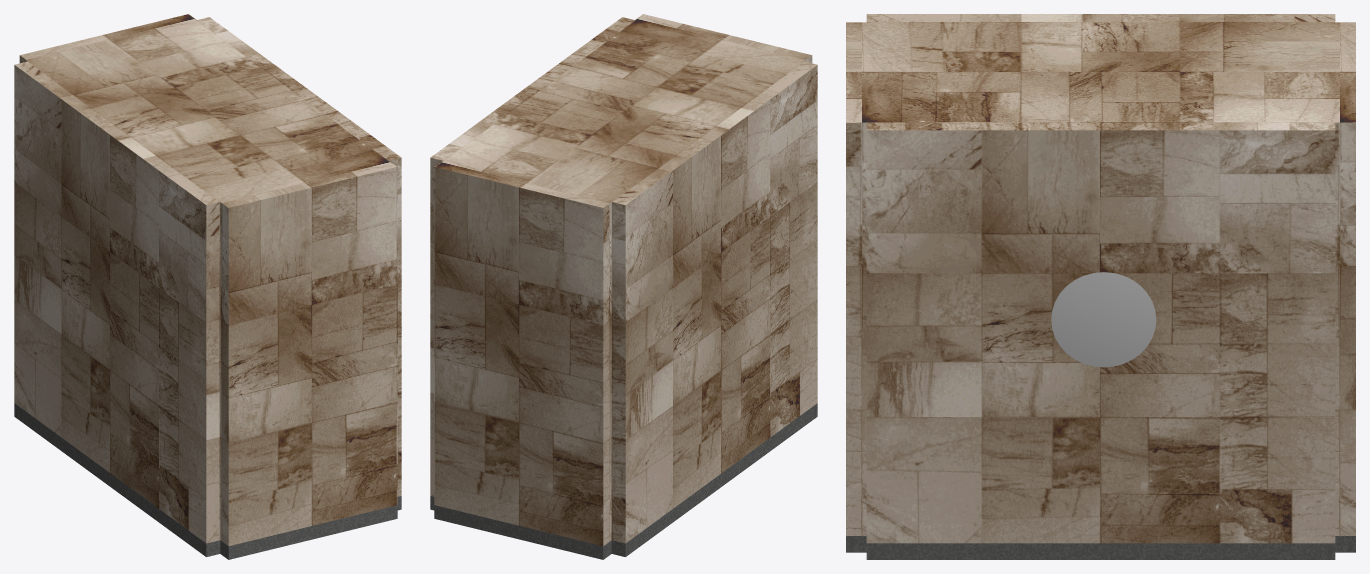
Rendered from Subway04Column01_One.FBX.
The picture shows the model from 3 angles, left to right: view 1: azimuth 30°, elevation 25°; view 2: azimuth 150°, elevation 25°; view 3: azimuth 270°, elevation 25°; orthographic projection. The views are drawn at different scales.
Parts seen in each view (by area): view 1: Subway04Column01; view 2: Subway04Column01; view 3: Subway04Column01, Subway04Column01Decor.
Boxes of the visible parts, <box> form: Subway04Column01: <box>14,14,401,559</box>; Subway04Column01: <box>430,14,817,559</box>; Subway04Column01: <box>846,14,1355,559</box>; Subway04Column01Decor: <box>1051,272,1156,367</box>.
Bounding box in the file's own units: 2745 × 4650 × 5000.
